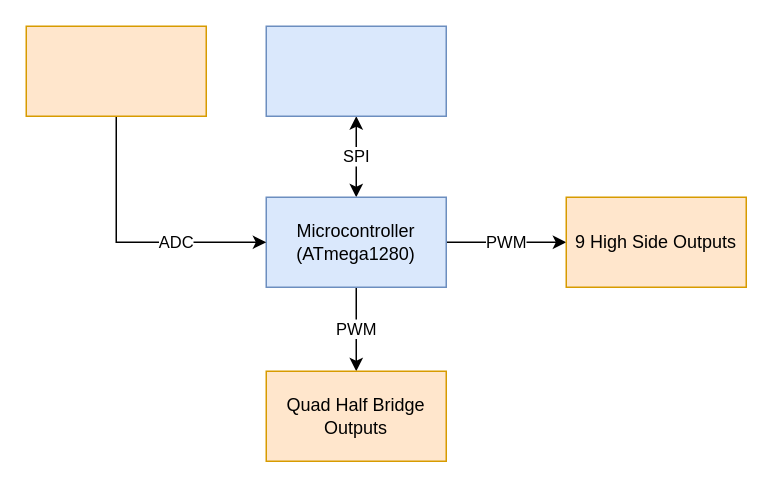
This 773x488 diagram has some shape labels left out. The box of each missing label's shape, as (x1, y1, x2, y2) in pixels:
2 Analog Inputs: (25, 25, 206, 116)
CANBUS Communication (MCP2515): (265, 25, 446, 116)
